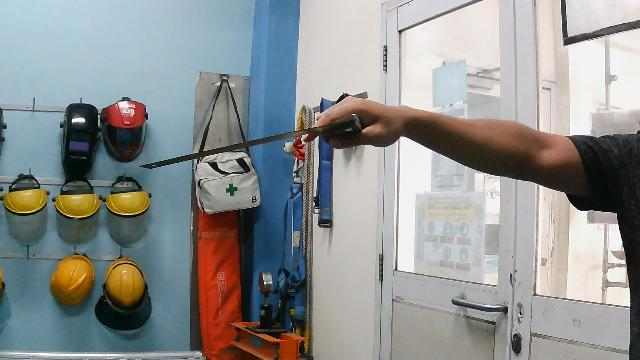penggaris_siku: (134, 107, 374, 177)
